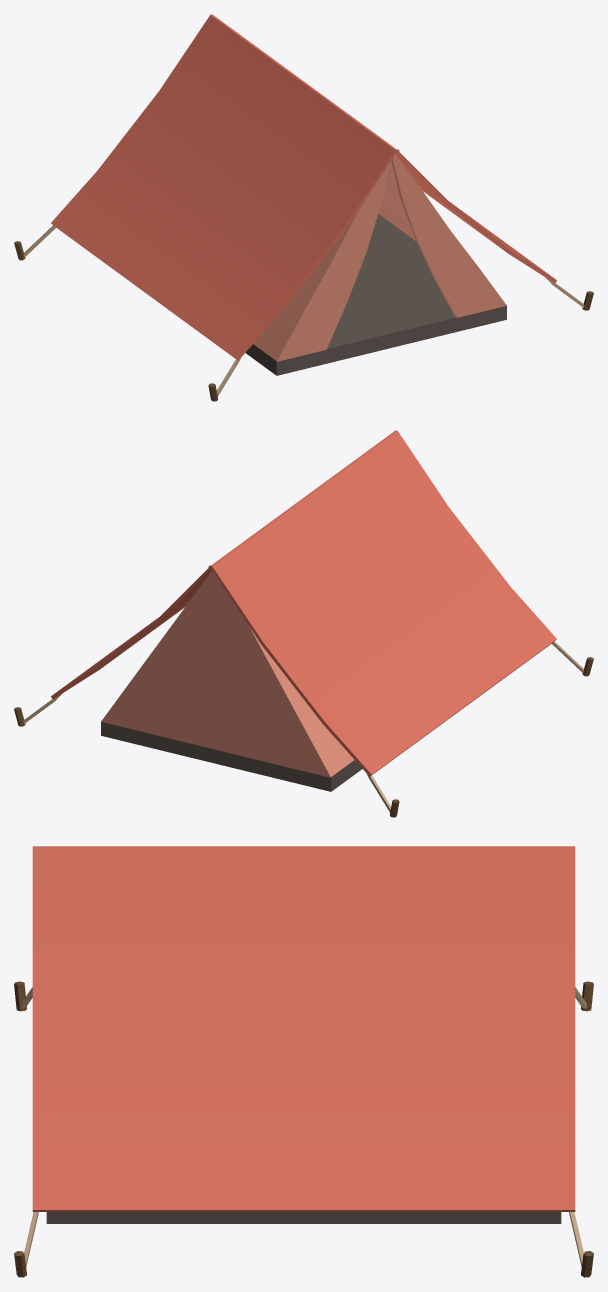
Rendered from Tent_03.glb.
3 views of the same model, one above another, from view 1: azimuth 30°, elevation 25°; view 2: azimuth 150°, elevation 25°; view 3: azimuth 270°, elevation 25° (orthographic). The views are drawn at different scales.
Visible parts, largest first — view 1: Tent_03; view 2: Tent_03; view 3: Tent_03.
Boxes of the visible parts, left/top/right/bottom form: Tent_03: left=14, top=14, right=593, bottom=401; Tent_03: left=14, top=430, right=593, bottom=817; Tent_03: left=14, top=846, right=593, bottom=1277.
Size of the model in its own units: 2.29 by 1.15 by 2.04.
1 material, 1 textured.
